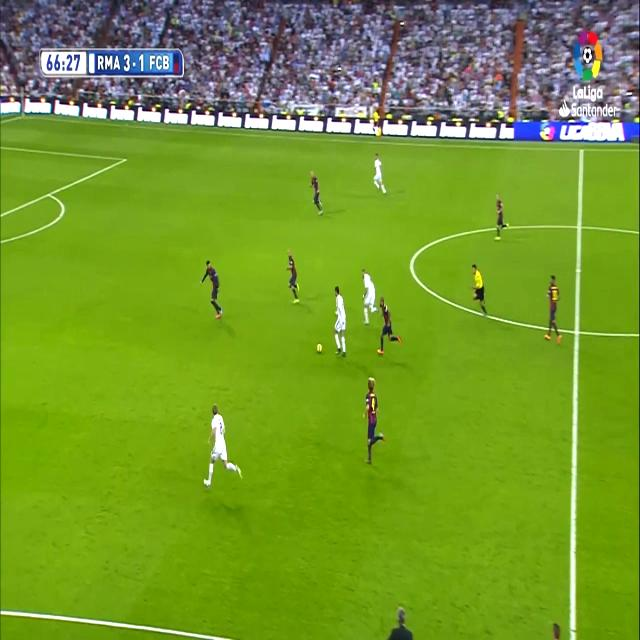bigarea_bottom_outter: (46, 185, 54, 201)
halfcircle_bottom: (569, 310, 585, 350)
halfcircle_top: (572, 210, 586, 242)
midline_top_intersection: (576, 144, 587, 160)
